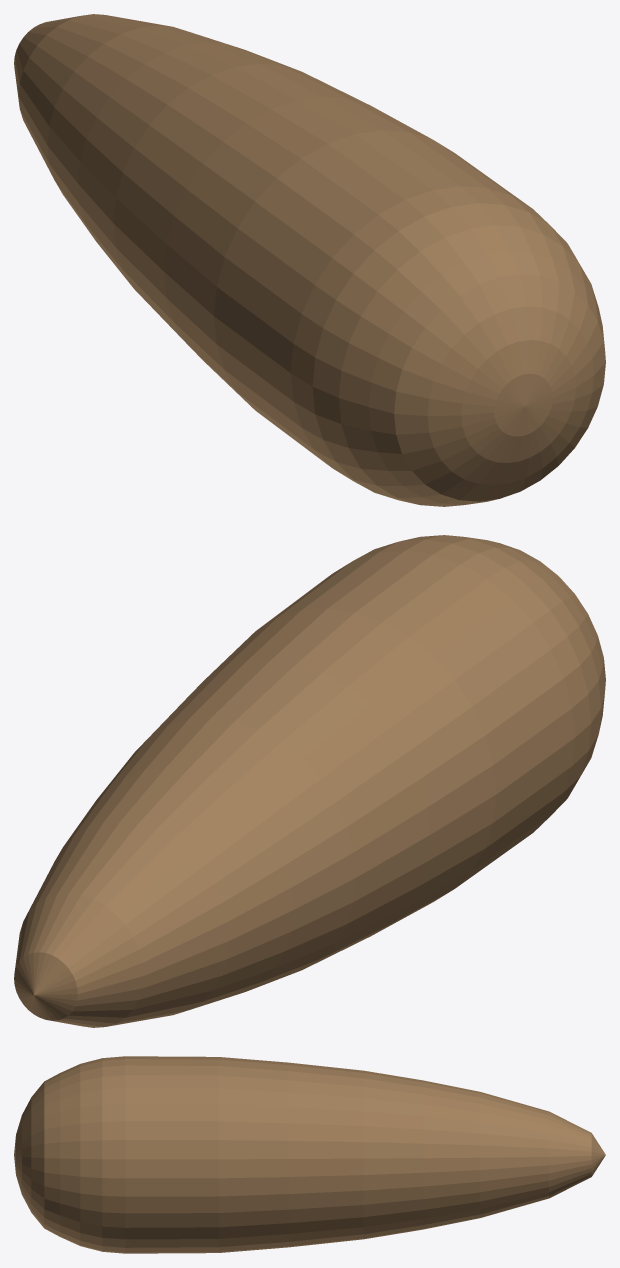
File: M4 Bullet.fbx
The picture shows the model from 3 angles, top to bottom: view 1: azimuth 30°, elevation 25°; view 2: azimuth 150°, elevation 25°; view 3: azimuth 270°, elevation 25°; orthographic projection. The views are drawn at different scales.
Parts seen in each view (by area): view 1: Sphere.001; view 2: Sphere.001; view 3: Sphere.001.
Part boxes in pixels (<box>): Sphere.001: <box>14,14,605,506</box>; Sphere.001: <box>14,535,605,1027</box>; Sphere.001: <box>14,1056,605,1253</box>.
Bounding box in the file's own units: 200 × 200 × 599.
